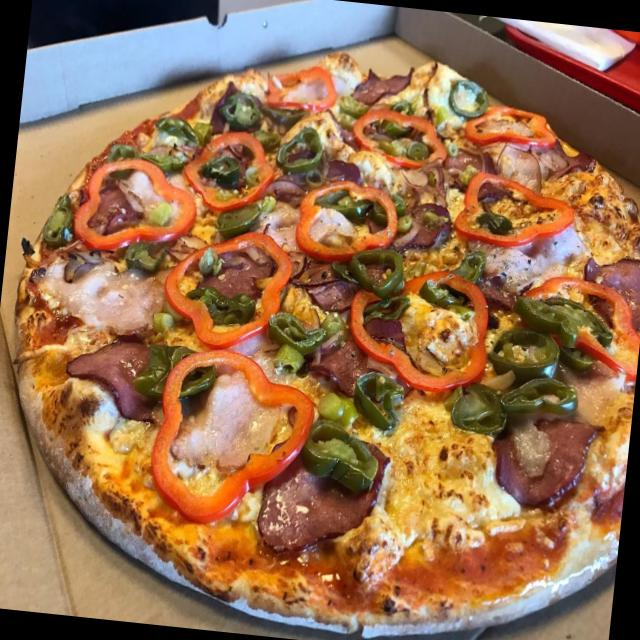pepperoni: (252, 428, 396, 569), (486, 406, 606, 528), (65, 331, 172, 432), (254, 148, 359, 222), (575, 250, 640, 340), (296, 258, 378, 328), (198, 246, 274, 308), (348, 64, 418, 120), (392, 194, 449, 250), (88, 186, 138, 244)
pizza: (13, 42, 640, 640)
